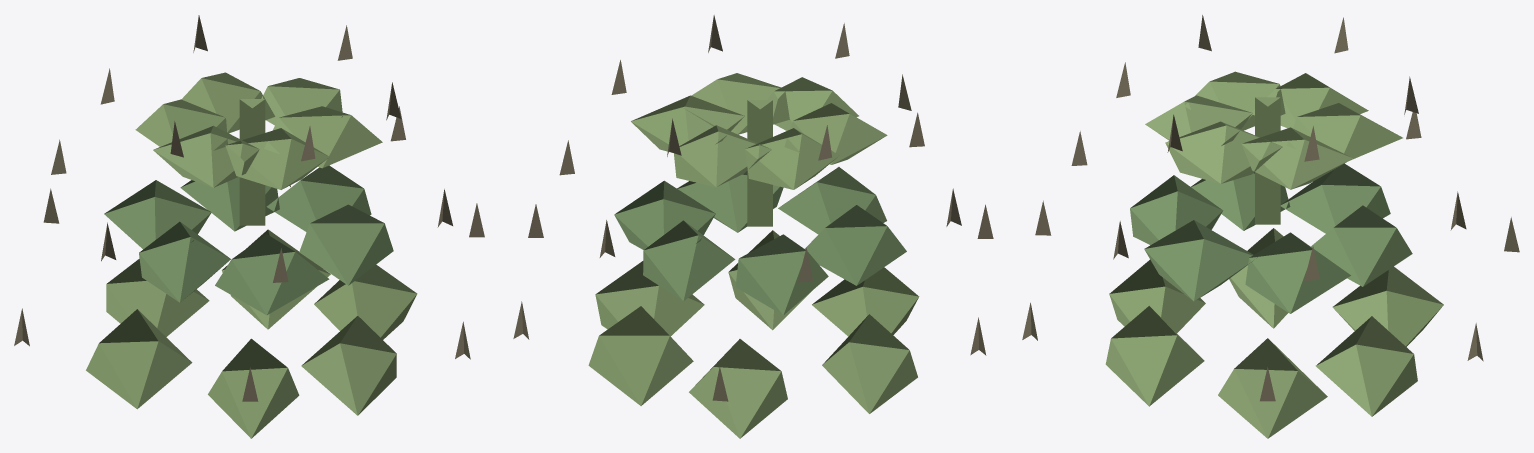
Rendered from cao.shamo@subadult__summer.glb.
The picture shows the model from 3 angles, left to right: view 1: azimuth 30°, elevation 25°; view 2: azimuth 150°, elevation 25°; view 3: azimuth 270°, elevation 25°; orthographic projection.
Parts seen in each view (by area): view 1: cao.shamo@subadult__summer; view 2: cao.shamo@subadult__summer; view 3: cao.shamo@subadult__summer.
Part boxes in pixels (box(x1,y1,x2,y2)): cao.shamo@subadult__summer: box(14, 15, 484, 438); cao.shamo@subadult__summer: box(513, 15, 993, 438); cao.shamo@subadult__summer: box(1022, 15, 1519, 438).
Size of the model in its own units: 0.9884 by 0.6386 by 0.9117.
